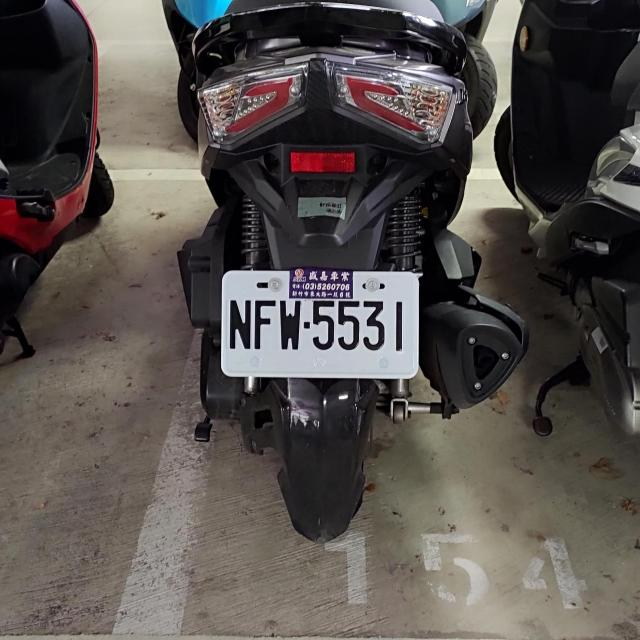W: (219, 266, 419, 378)
